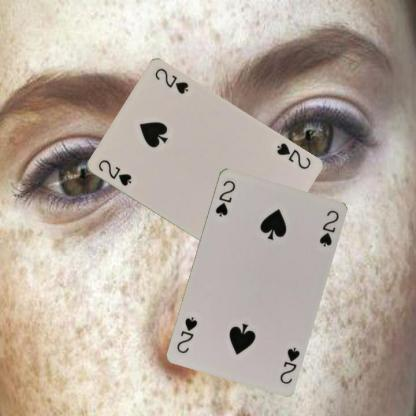2s: (273, 140, 312, 171), (95, 156, 133, 187), (277, 344, 301, 385), (213, 177, 236, 218)
